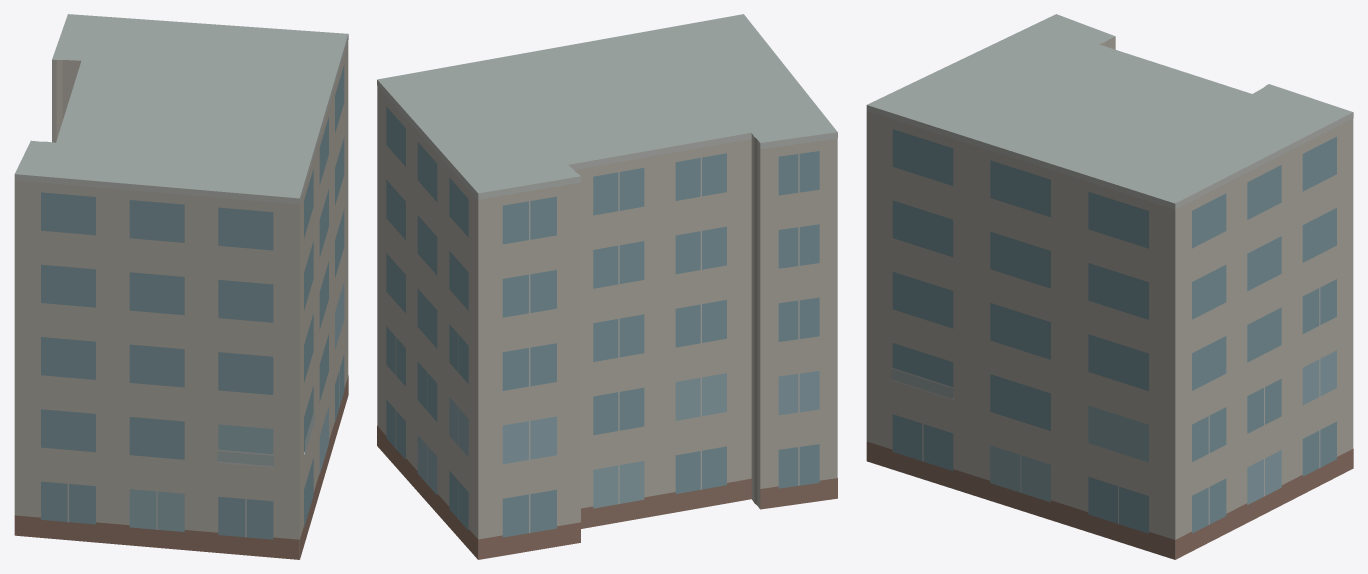
File: survey-upis-33001573.glb
The picture shows the model from 3 angles, left to right: view 1: azimuth 30°, elevation 25°; view 2: azimuth 150°, elevation 25°; view 3: azimuth 270°, elevation 25°; orthographic projection. The views are drawn at different scales.
Visible parts, largest first — view 1: survey-upis-33001573.tmp; view 2: survey-upis-33001573.tmp; view 3: survey-upis-33001573.tmp.
Boxes of the visible parts, x1,y1,x2,y2 form: survey-upis-33001573.tmp: (14, 14, 348, 559); survey-upis-33001573.tmp: (377, 14, 837, 559); survey-upis-33001573.tmp: (866, 14, 1353, 559).
Size of the model in its own units: 16.44 by 14.4 by 17.84.
